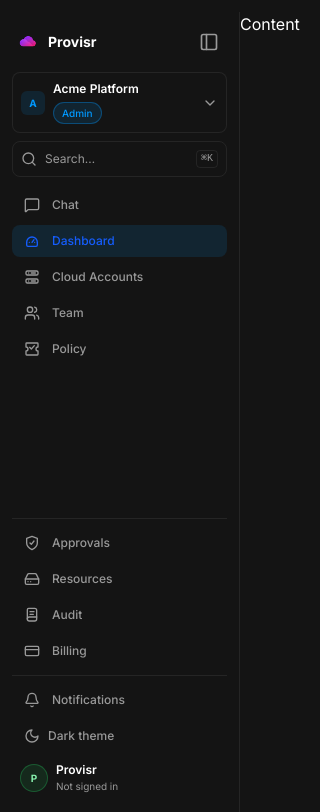
Test: DashboardShell › keeps current workspace after rejected selection and allows retry
Expected: the link with test id "nav-team" is shown, [24,305,84,321]
Click the button with test id "workspace-switcher-trigger".
click(120, 102)  # box [12,72,227,133]
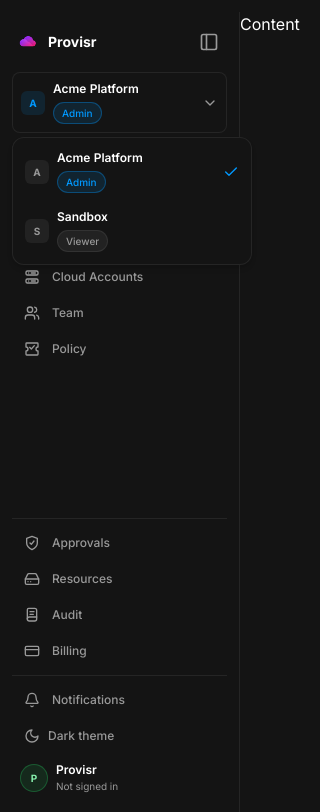
Click the menu item with test id "workspace-option-sandbox".
click(132, 230)  # box [17,201,247,260]
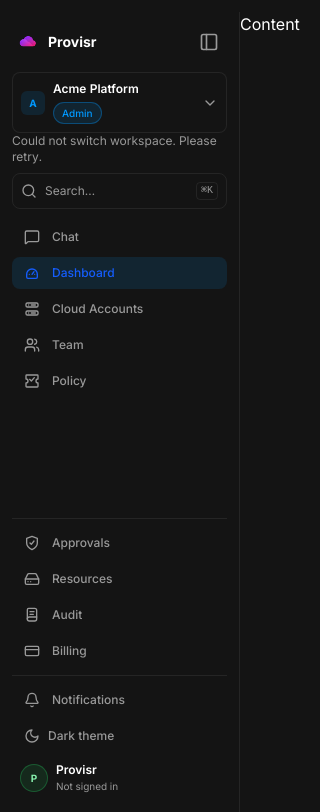
Expected: the text with test id "workspace-switcher-name" reads "Acme Platform", [53,81,139,96]
Result: the message "Could not switch workspace. Please retry." is shown at [12,133,227,165]
